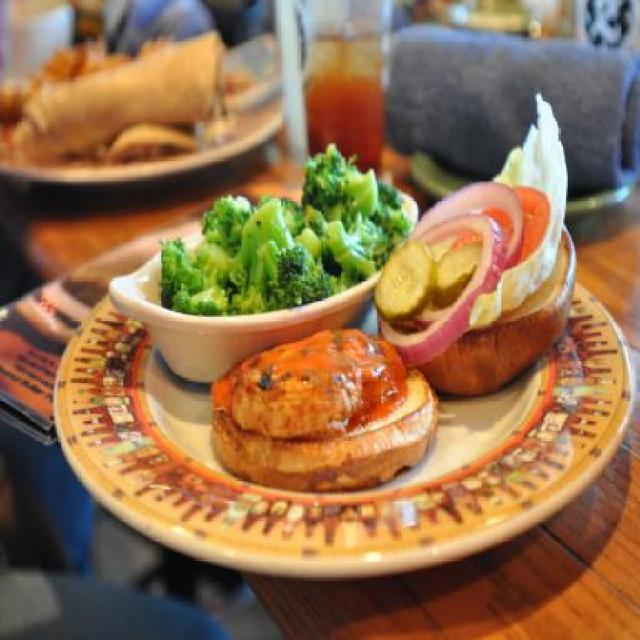Broccoli: (159, 152, 418, 318)
